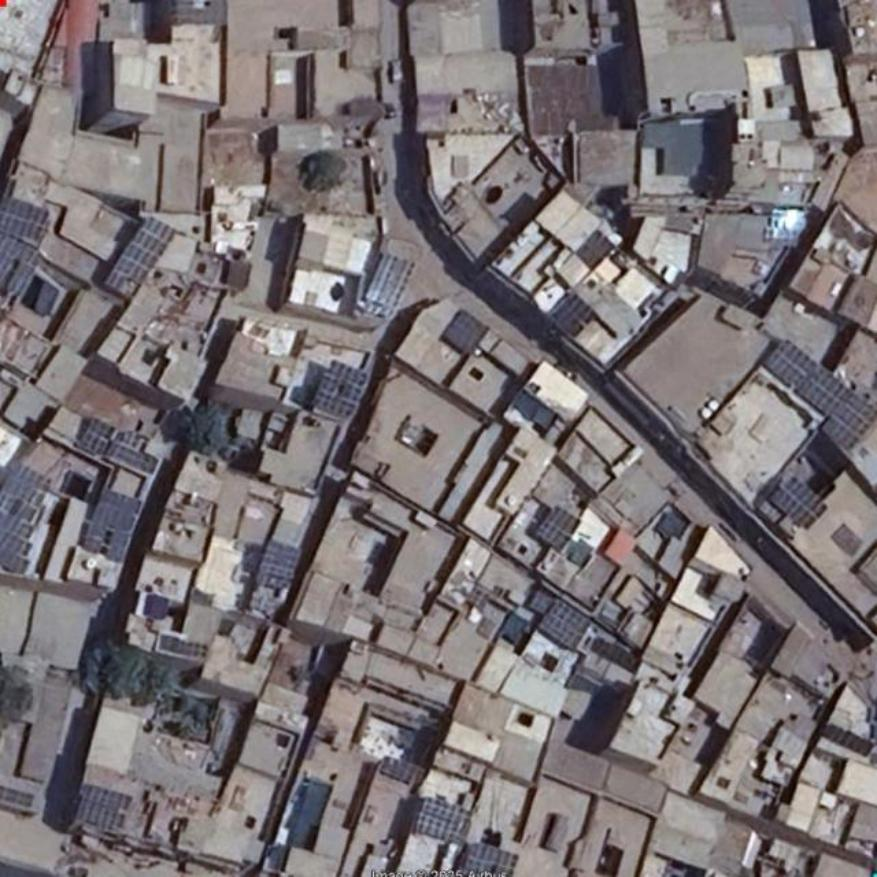Solarpanel: (753, 337, 876, 451), (0, 453, 63, 576), (105, 218, 173, 296), (83, 490, 144, 565), (0, 231, 39, 324), (313, 358, 368, 420), (771, 474, 829, 530), (538, 600, 592, 651), (365, 253, 414, 307), (76, 786, 136, 829), (413, 800, 470, 845), (0, 196, 47, 245), (254, 542, 300, 589), (105, 432, 159, 471), (536, 506, 579, 552), (552, 296, 595, 338), (462, 845, 518, 876), (80, 413, 115, 454), (0, 786, 35, 807)
